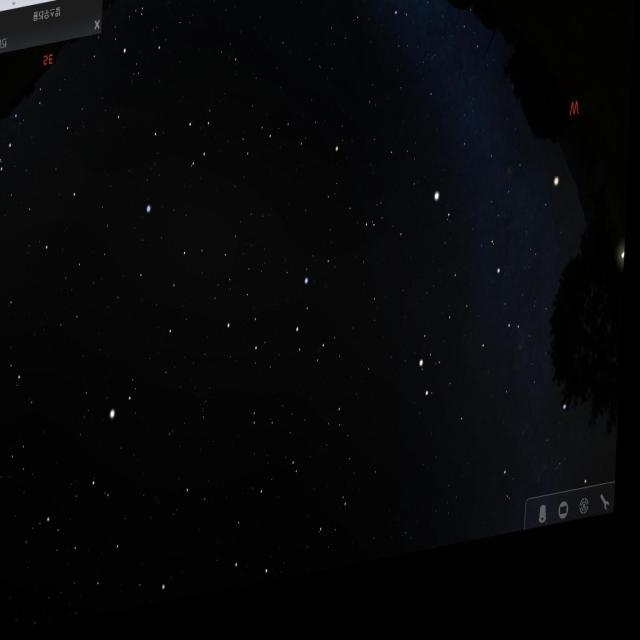bootes: (66, 378, 157, 620)
canis_minor: (426, 192, 466, 255)
gemini: (416, 280, 518, 432)
leo: (214, 268, 343, 411)
